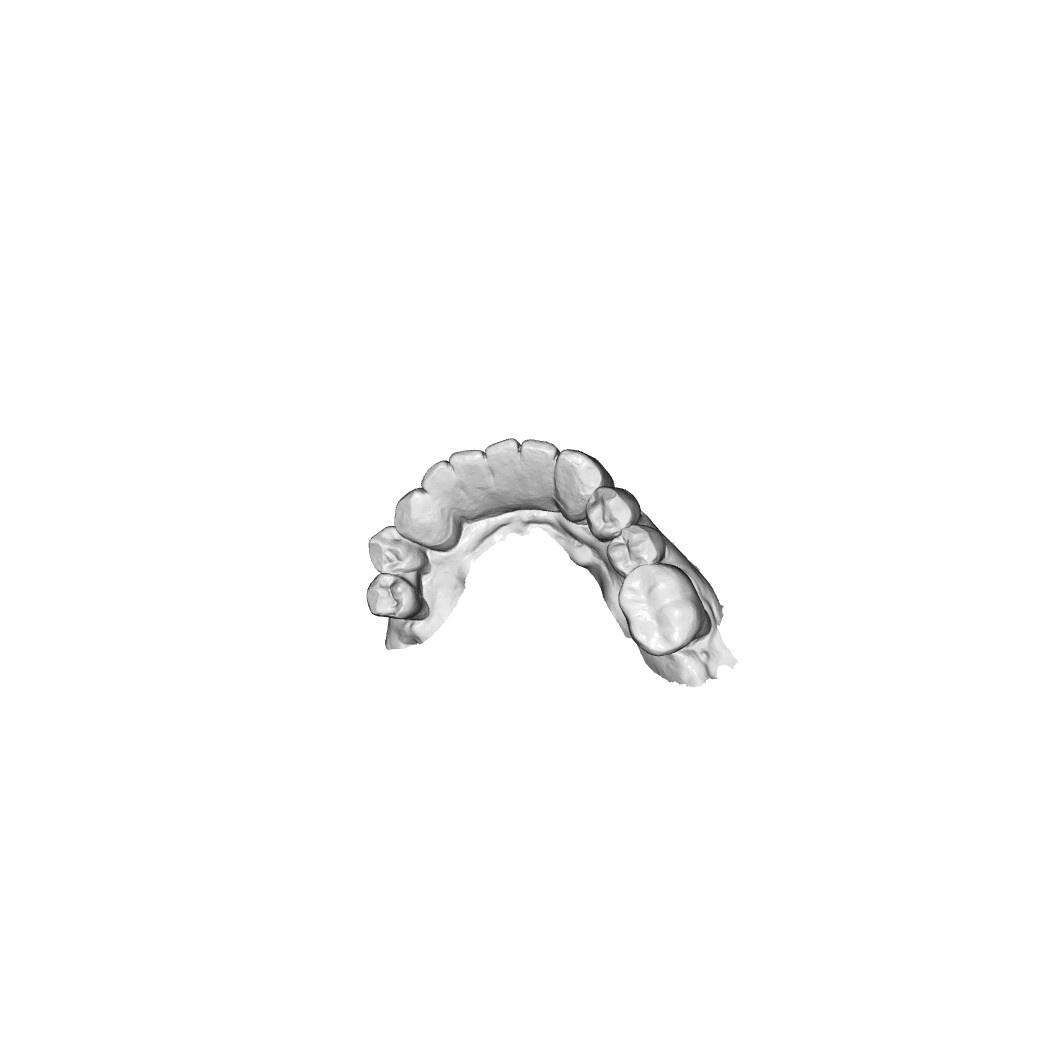canine: (395, 492, 461, 549), (556, 447, 606, 515)
incisor: (516, 440, 558, 501), (449, 448, 495, 502), (487, 438, 525, 492), (422, 461, 464, 504)
molar: (618, 565, 712, 658)
premolar: (606, 523, 665, 572), (369, 533, 429, 574), (368, 575, 419, 619), (585, 488, 633, 532)
